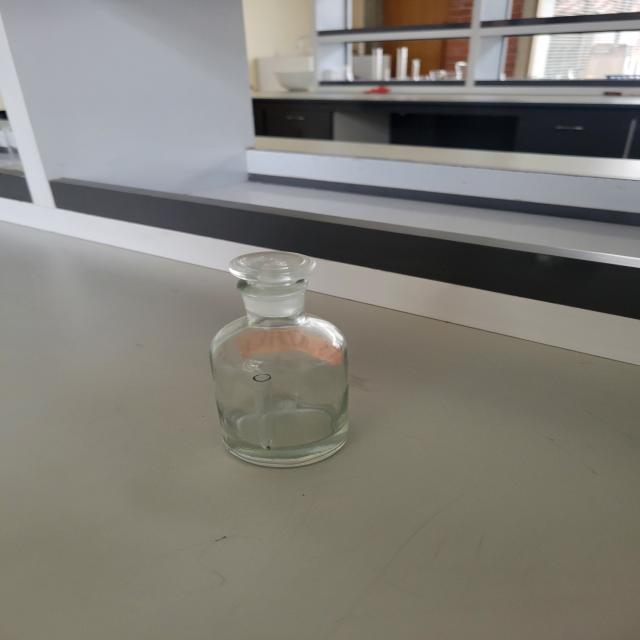Reagent_Bottle: (165, 234, 418, 502)
